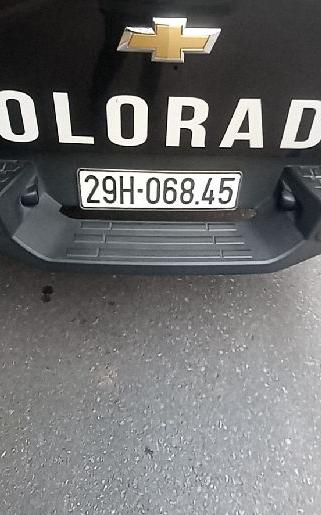Plate-iWeP: (81, 172, 243, 207)
